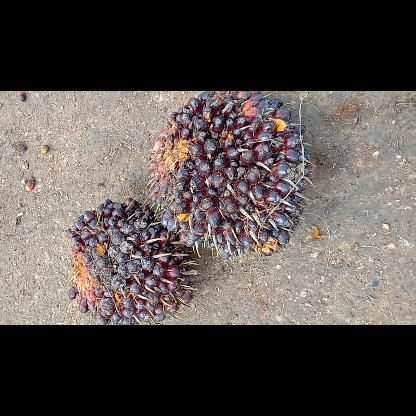Kurang masak: (143, 90, 316, 262), (62, 194, 192, 324)
